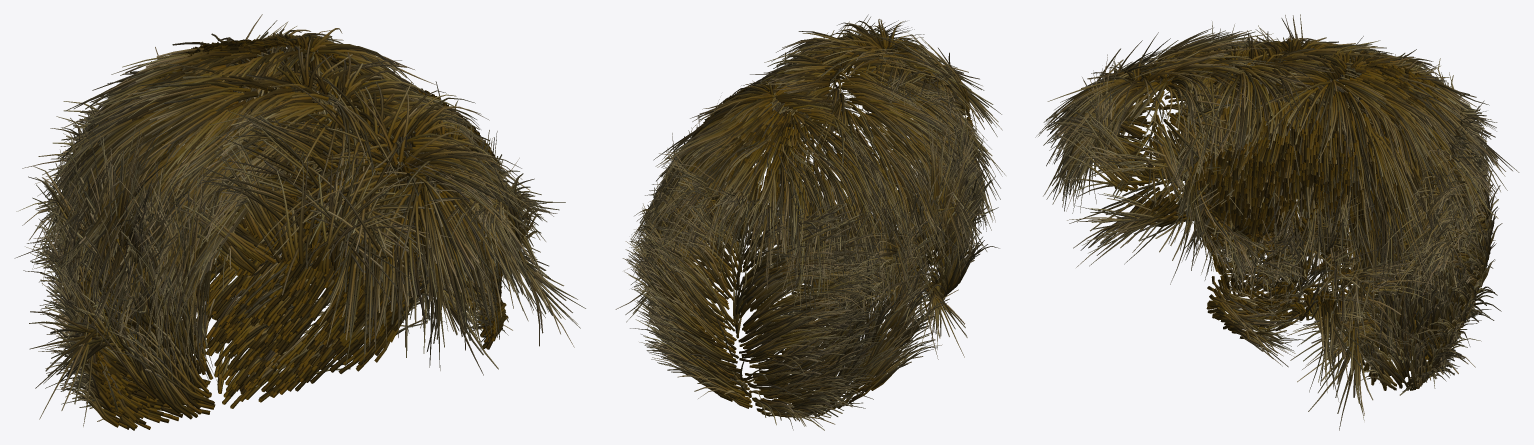
File: evil head.fbx
The picture shows the model from 3 angles, left to right: view 1: azimuth 30°, elevation 25°; view 2: azimuth 150°, elevation 25°; view 3: azimuth 270°, elevation 25°; orthographic projection. The views are drawn at different scales.
Visible parts, largest first — view 1: Object001; view 2: Object001; view 3: Object001.
Part boxes in pixels (<box>): Object001: <box>14,14,585,430</box>; Object001: <box>615,14,1005,430</box>; Object001: <box>1035,14,1519,430</box>.
Size of the model in its own units: 49.74 by 41.36 by 56.62.
